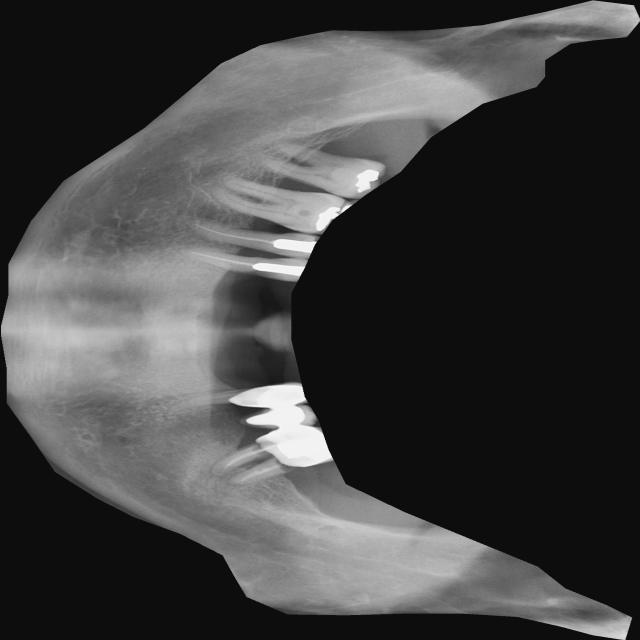mandibula: (0, 0, 640, 640)
